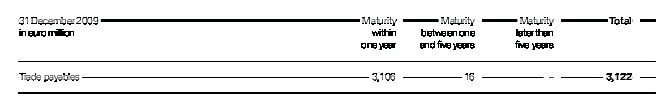table: (0, 0, 672, 103)
